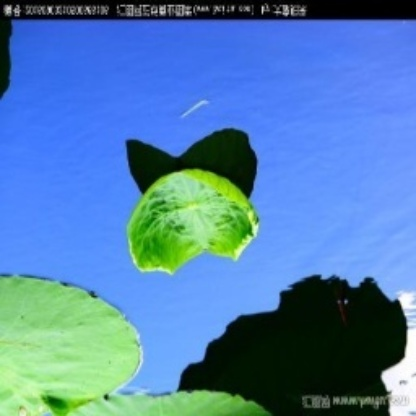leaf: (126, 165, 264, 277)
